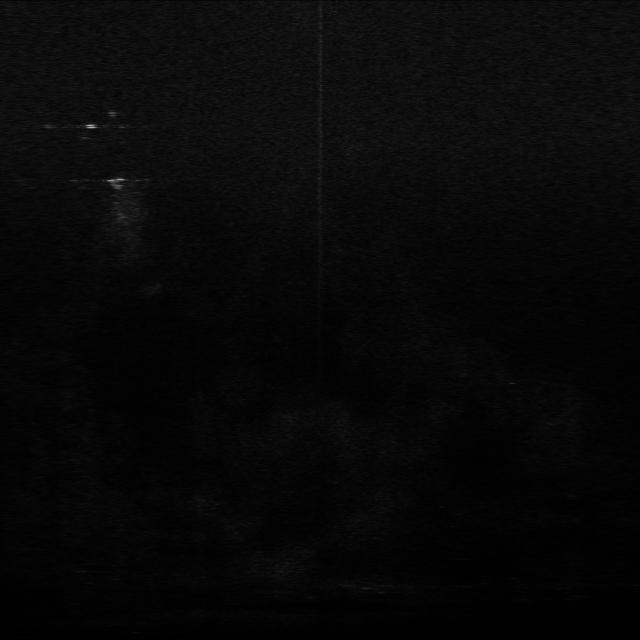rov: (104, 172, 128, 192)
